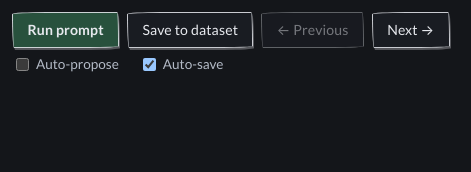
Test: StudioActions (the Generator bar, Jan 2026-09-30) › with Auto-save off, moving on from unsaved changes is refused rather than dropping them
The width and height of the screenshot is (471, 172).
Click the checkbox labelled "Auto-save".
click(149, 64)  # box [143, 58, 156, 71]
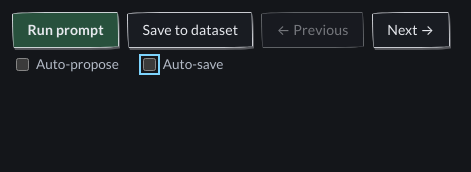
Click the button "Next →".
click(411, 30)  # box [372, 12, 450, 48]
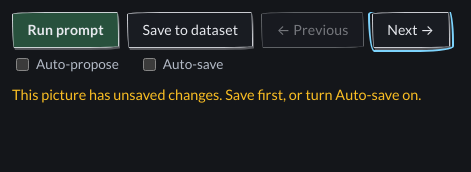
Result: the message shows "Save first, or turn Auto-save on." at [12, 86, 421, 103]
